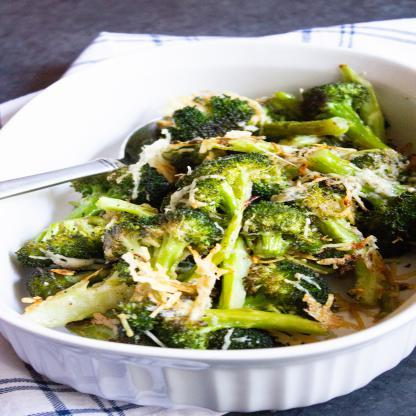broccoli: (8, 64, 416, 350)
